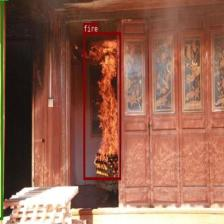fire: (83, 32, 121, 180)
